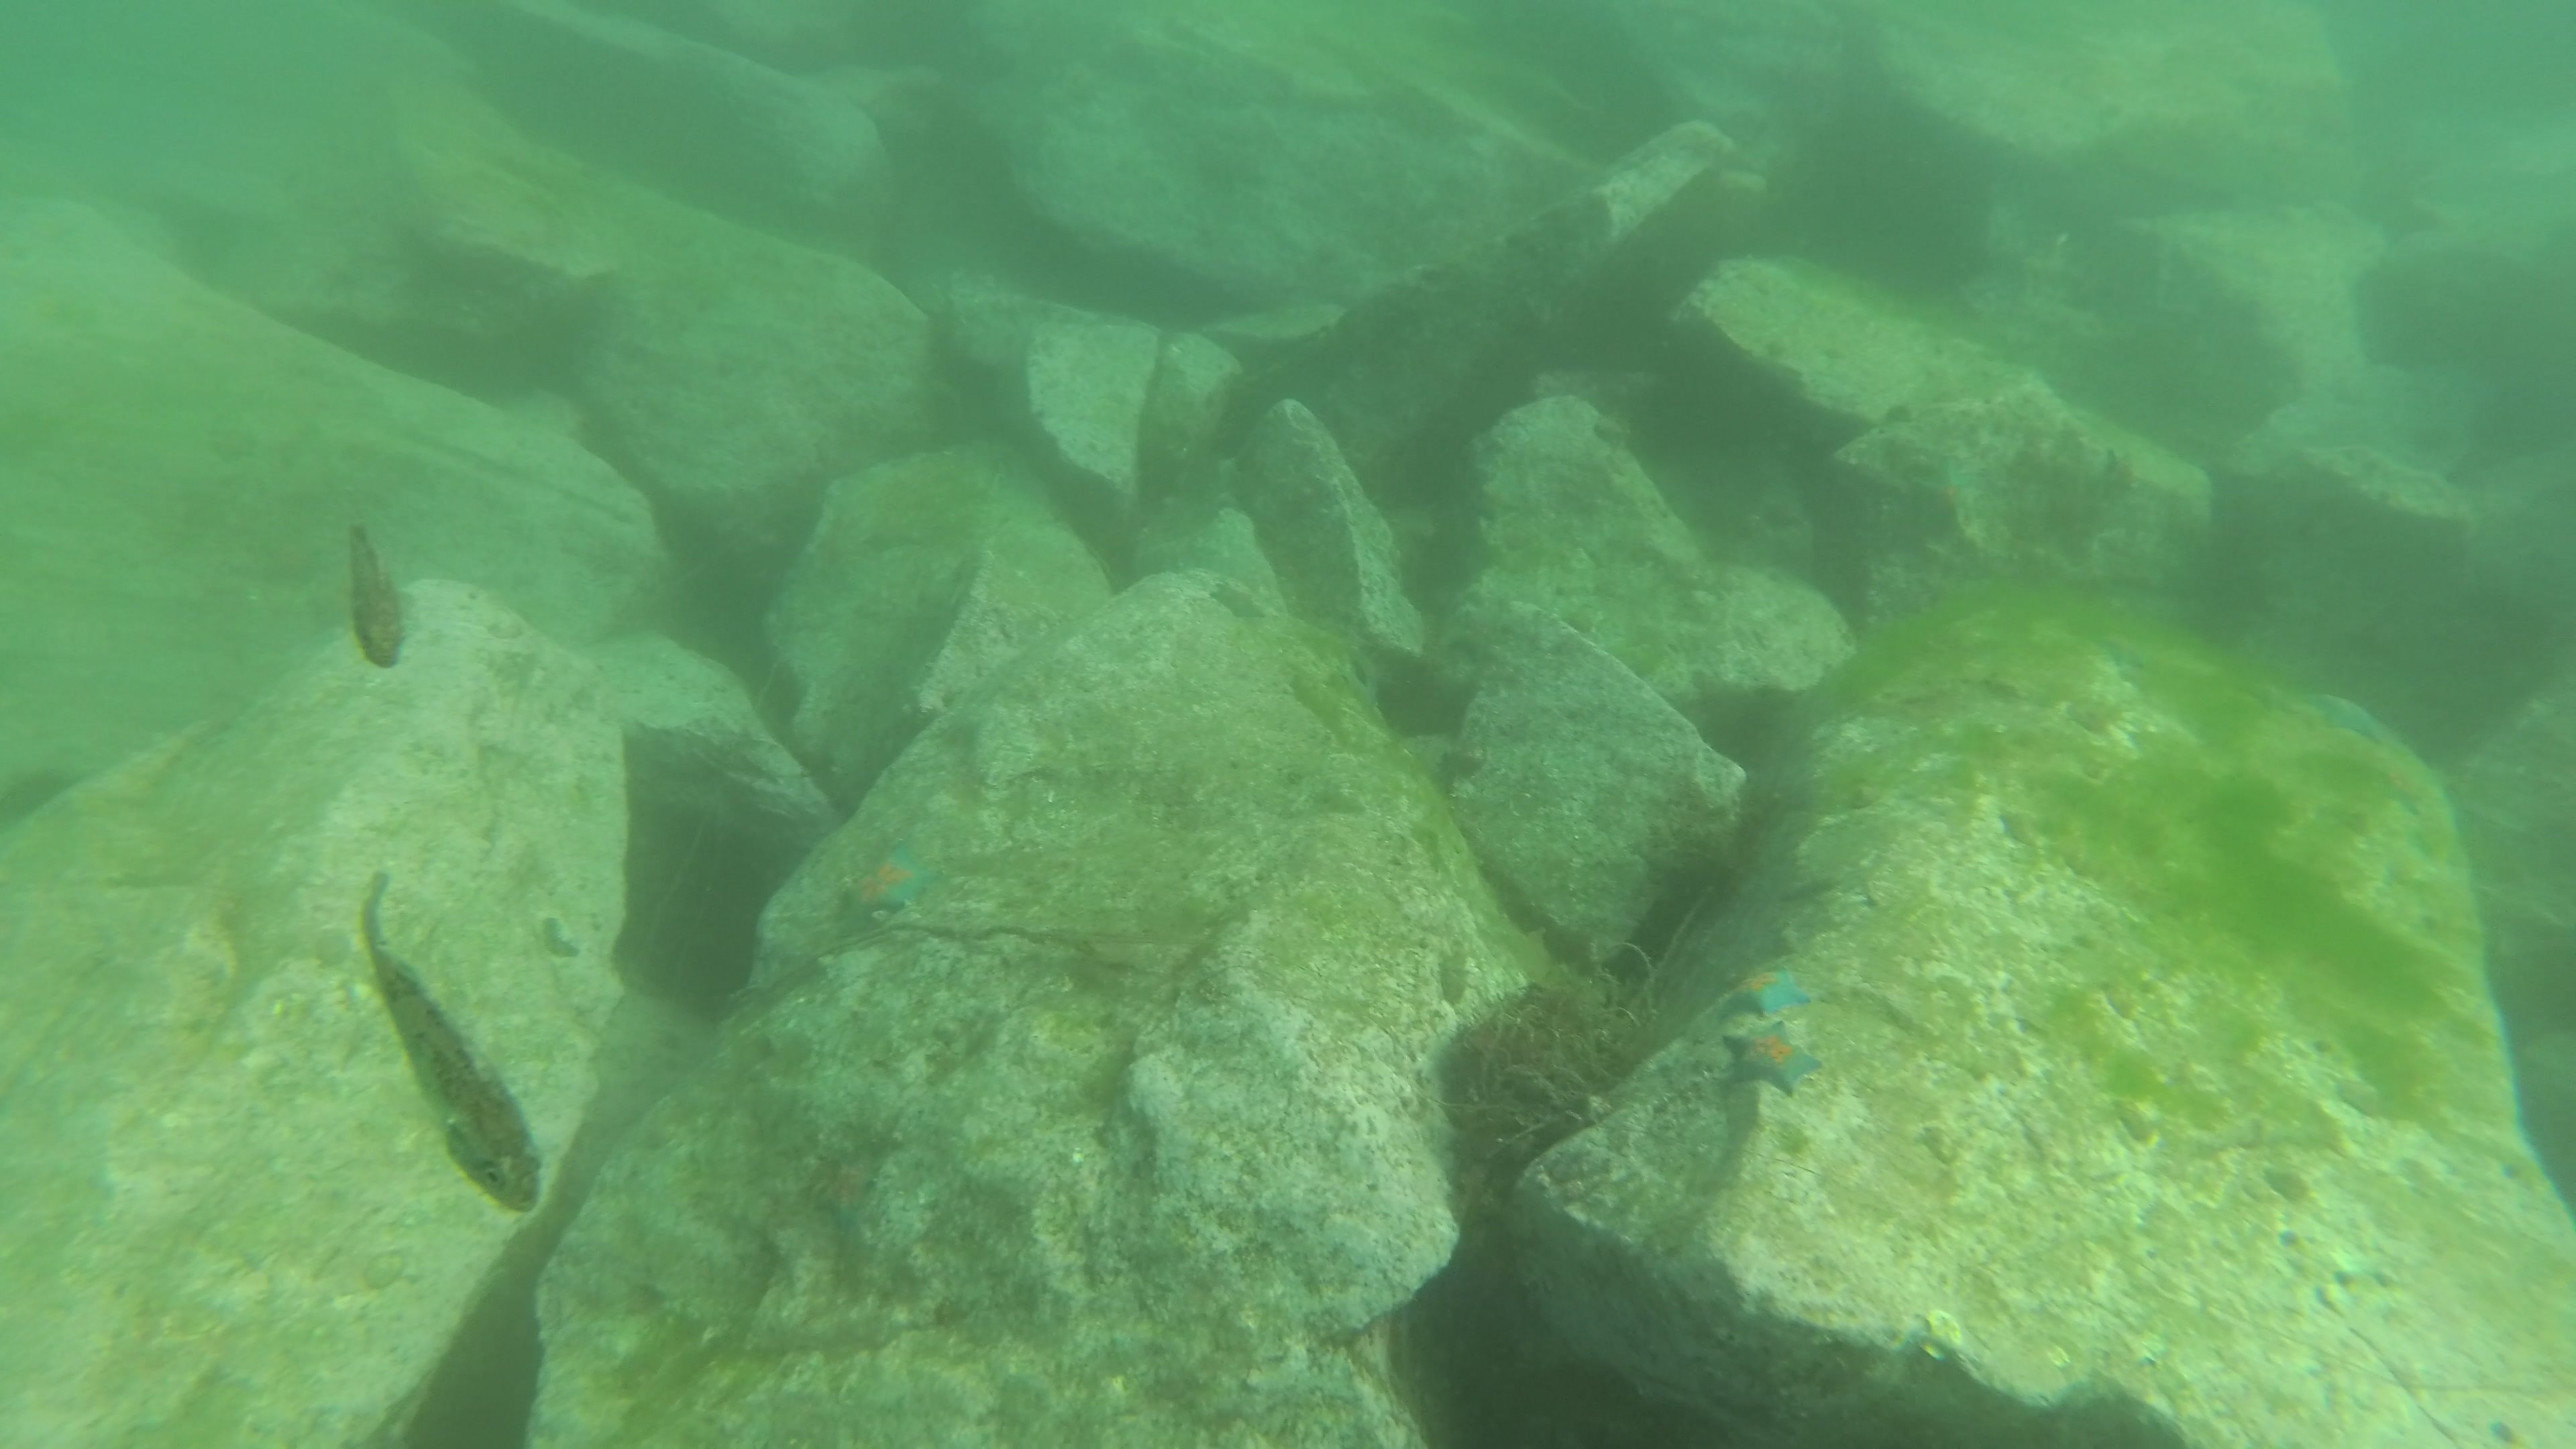starfish: (835, 842, 947, 927), (1720, 1019, 1815, 1102), (1725, 954, 1826, 1024), (809, 1146, 888, 1230), (2288, 688, 2399, 747)
